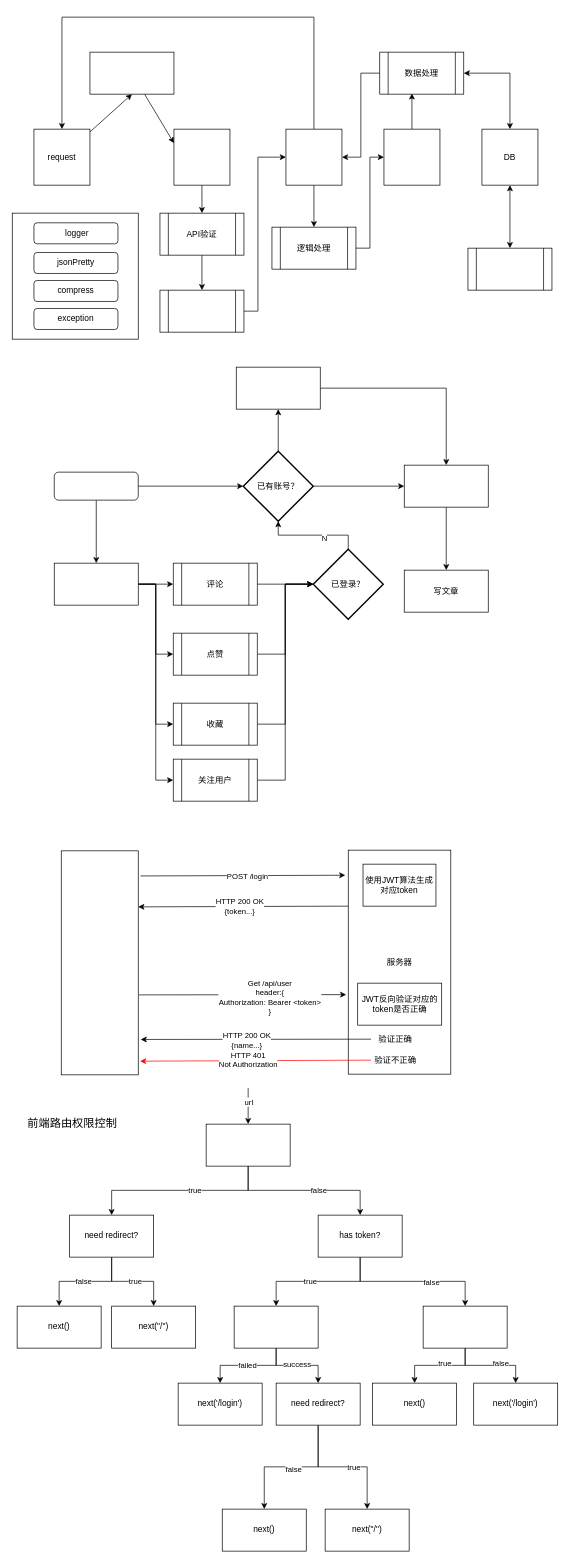
Some shapes in this 571 by 1564 pixel diagram are drawn without their labels. Here are the shapes that lost their labels. From the top down, the centre of each, then its label:
the point at 131,72: 日志中间件等
the point at 201,156: router
the point at 313,156: controller
the point at 411,156: service
the point at 509,268: MongoDB
the point at 201,310: 身份验证
the point at 278,387: 注册
the point at 96,485: 访问页面
the point at 446,485: 登录
the point at 96,583: 查看文章
the point at 99,962: 浏览器
the point at 247,1144: user.isLogin?
the point at 275,1326: fetchCurrentUser
the point at 464,1326: isPublic?
